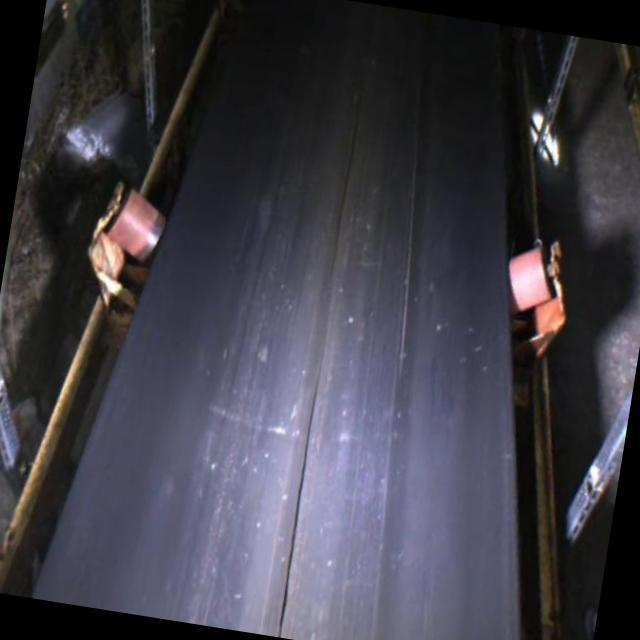Tear: (259, 63, 371, 639)
